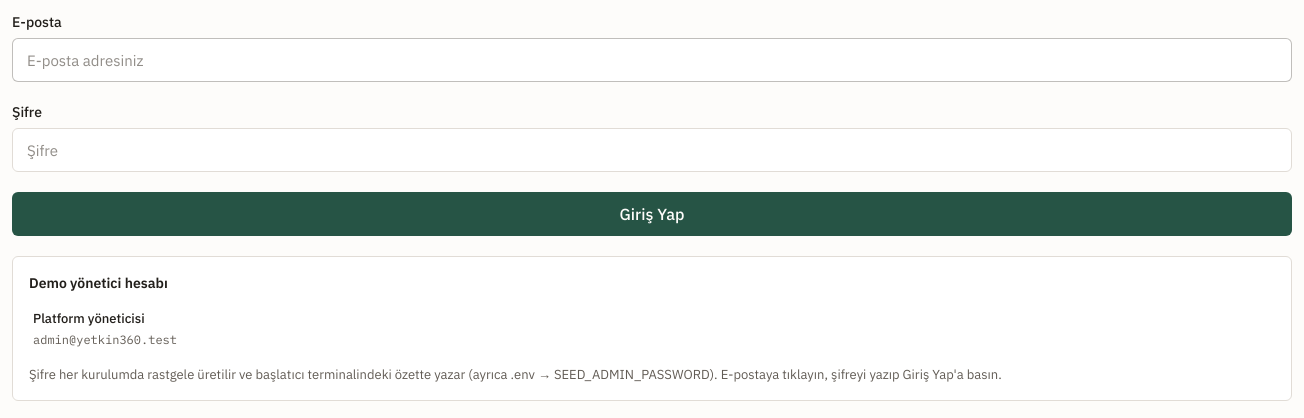
Test case: Login demo accounts panel › admin variant fills only the admin email and never shows a password
Click the button with aria-label "Platform yöneticisi e-postasını forma doldur".
click(89, 318)  # box [29, 301, 1275, 356]
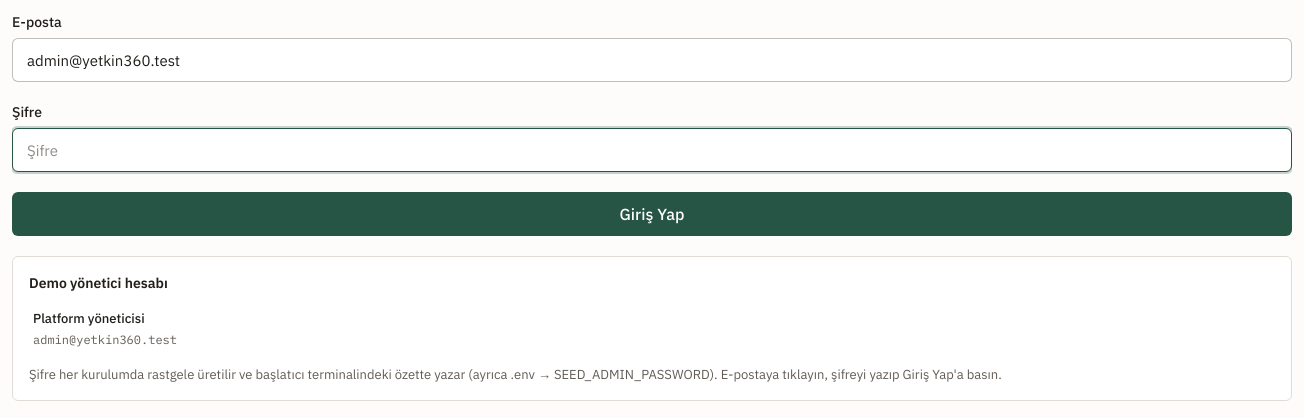
Expected: the password field labelled "Şifre" is empty, [12, 128, 1292, 172]
Expected: the field labelled "E-posta" holds "admin@yetkin360.test", [12, 38, 1292, 82]
